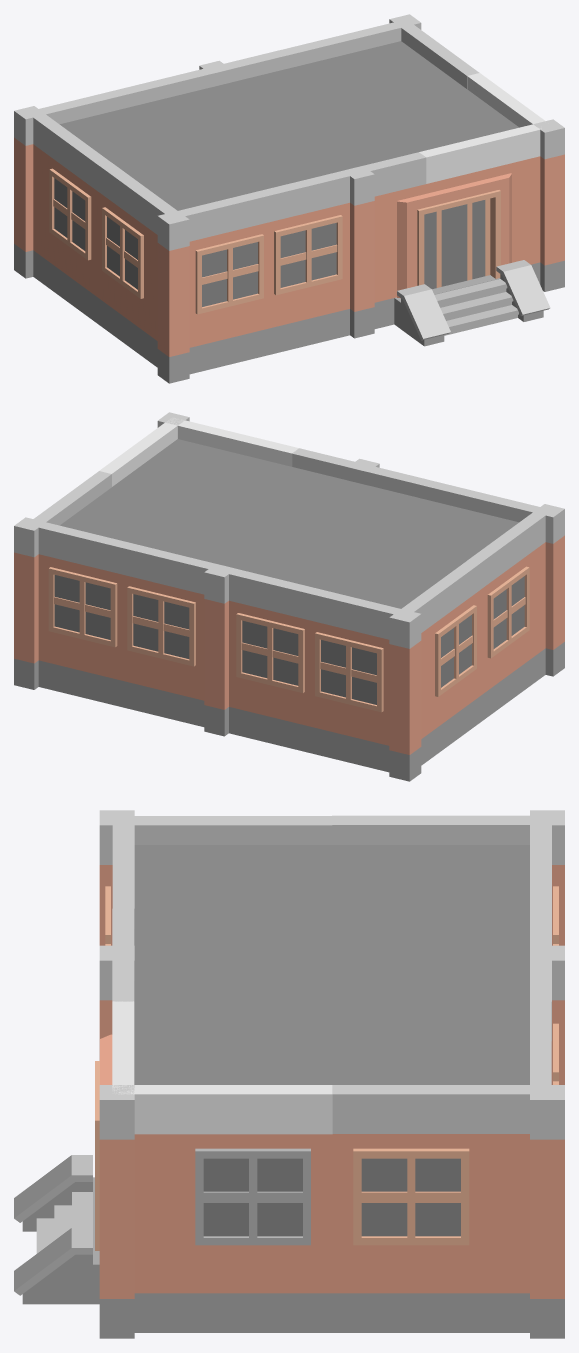
Rendered from building_orange_office.fbx.
3 views of the same model, one above another, from view 1: azimuth 30°, elevation 25°; view 2: azimuth 150°, elevation 25°; view 3: azimuth 270°, elevation 25° (orthographic). The views are drawn at different scales.
Parts seen in each view (by area): view 1: building_orange_office; view 2: building_orange_office; view 3: building_orange_office.
Part boxes in pixels (box(x1,y1,x2,y2)): building_orange_office: box(14, 14, 564, 383); building_orange_office: box(14, 412, 564, 781); building_orange_office: box(14, 810, 564, 1338).
Size of the model in its own units: 312 by 120 by 251.
